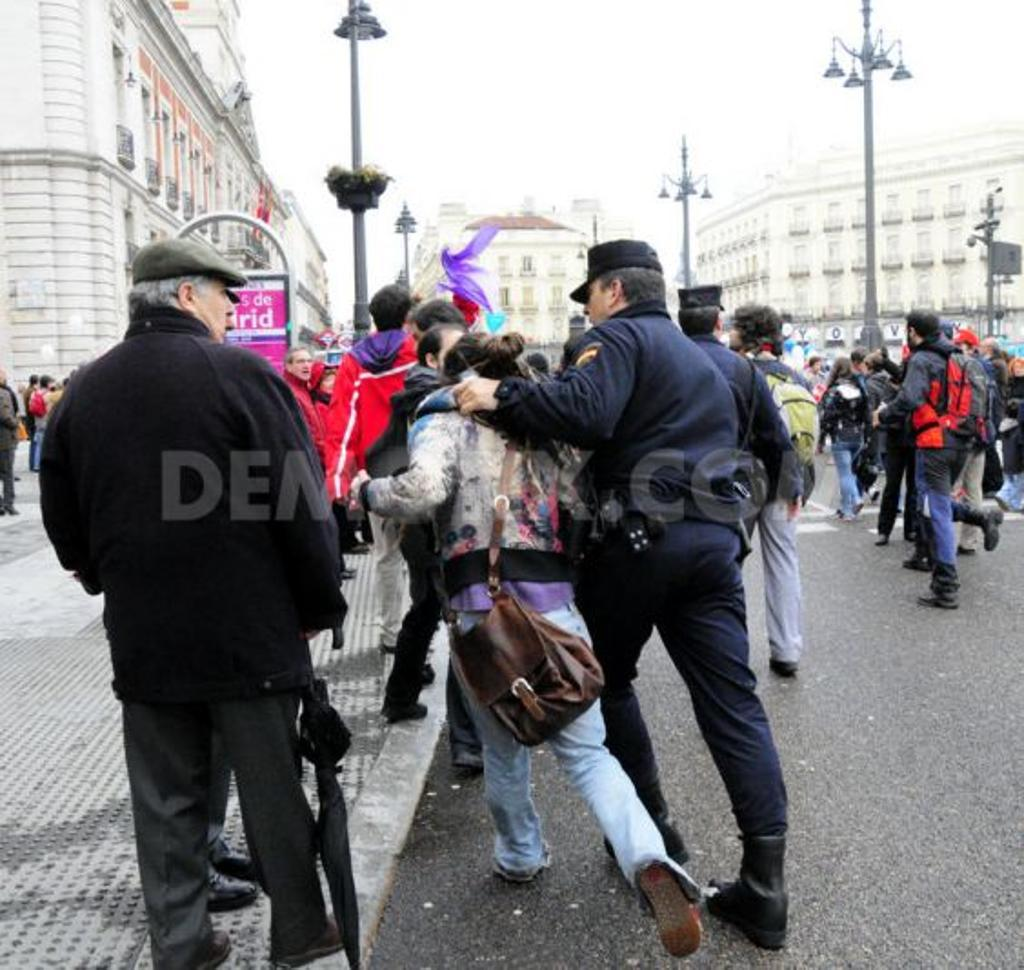face: (189, 274, 234, 344), (584, 273, 619, 328), (293, 354, 312, 381), (730, 319, 747, 349), (955, 340, 971, 361), (320, 376, 336, 396), (862, 361, 871, 374), (1015, 362, 1023, 376), (983, 344, 990, 356), (813, 362, 821, 371)
